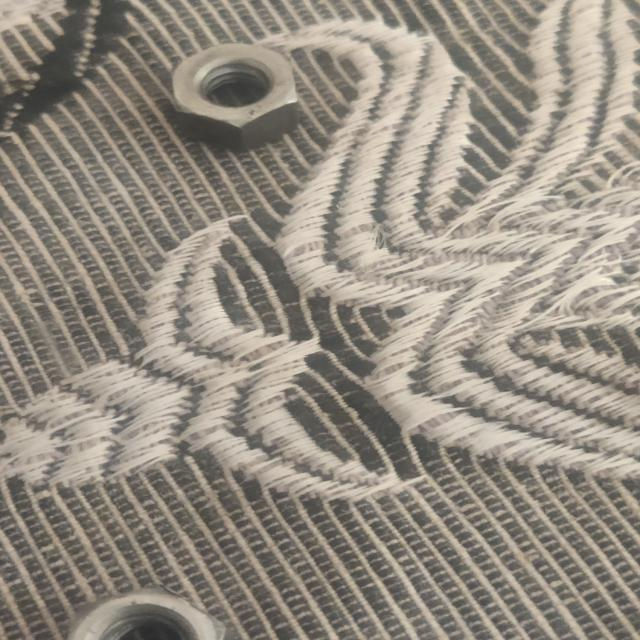disinfected nut: (173, 42, 300, 148), (67, 590, 233, 640)
